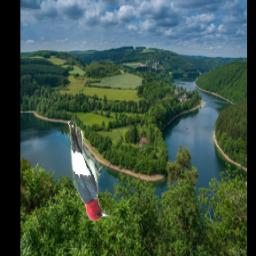Woodpecker: (66, 121, 111, 221)
